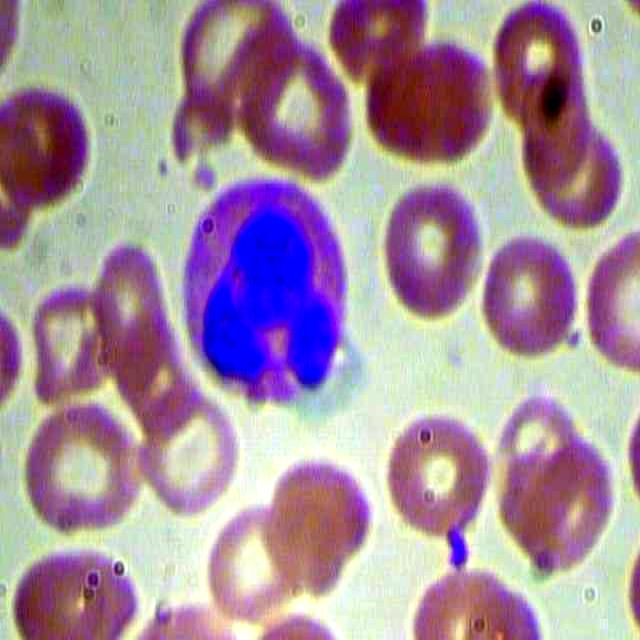RBC: (359, 28, 495, 165), (219, 44, 355, 181), (19, 396, 141, 539), (379, 181, 486, 328), (474, 224, 581, 371), (388, 400, 495, 547), (266, 441, 373, 588), (201, 481, 308, 628), (505, 437, 612, 584), (133, 375, 240, 521), (487, 1, 594, 140), (11, 541, 138, 640), (1, 77, 92, 212)
WBC: (174, 174, 357, 418)
